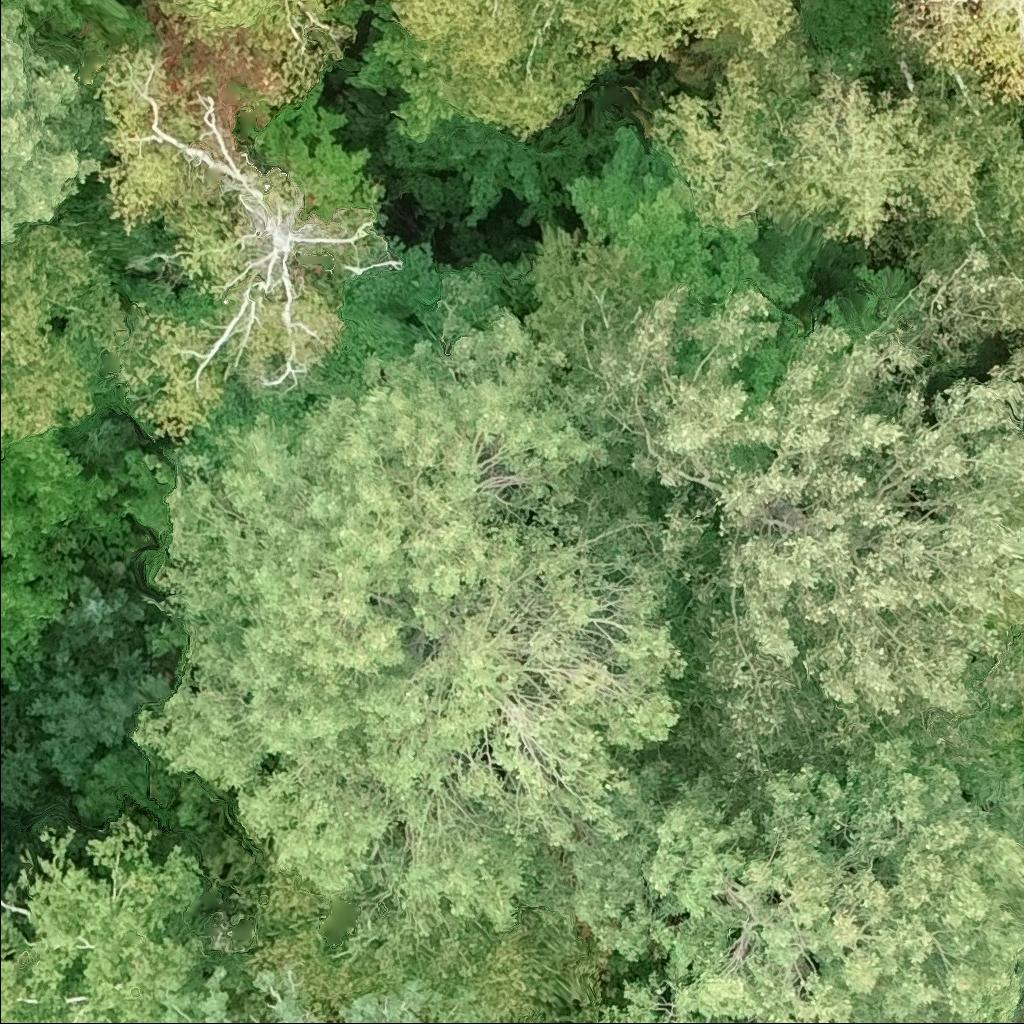crown: (131, 255, 717, 936), (522, 217, 1023, 799), (564, 733, 1023, 1023), (85, 40, 379, 451), (233, 845, 609, 1023), (394, 0, 800, 142), (561, 123, 828, 309), (765, 66, 1023, 252), (0, 810, 213, 1023), (646, 39, 821, 230), (0, 211, 129, 461), (0, 7, 111, 252), (154, 0, 355, 110), (902, 126, 1023, 280), (887, 0, 1023, 107), (153, 961, 306, 1023), (47, 572, 149, 664), (341, 977, 495, 1023), (0, 0, 133, 33), (996, 706, 1023, 766), (0, 561, 20, 622)
